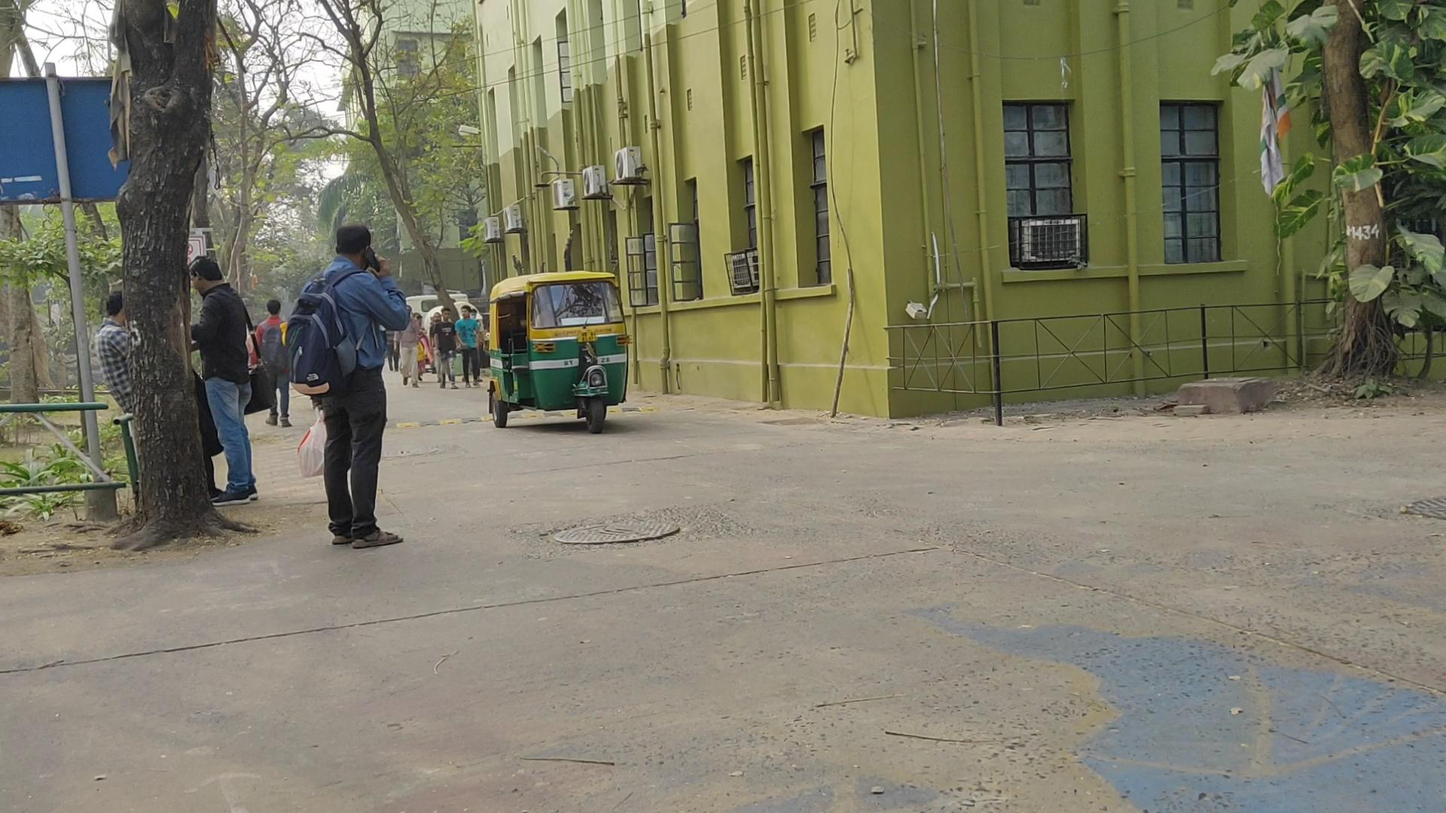Auto: (489, 270, 633, 434)
